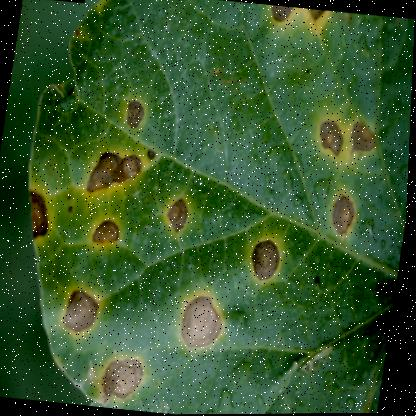AlternariaBrassicicola: (170, 286, 233, 358), (83, 346, 153, 409), (79, 143, 147, 203), (313, 110, 387, 159), (57, 287, 108, 341), (16, 183, 58, 246), (245, 234, 286, 286), (324, 190, 362, 241), (88, 213, 127, 254), (159, 191, 193, 233), (120, 95, 149, 132), (260, 3, 294, 24)
